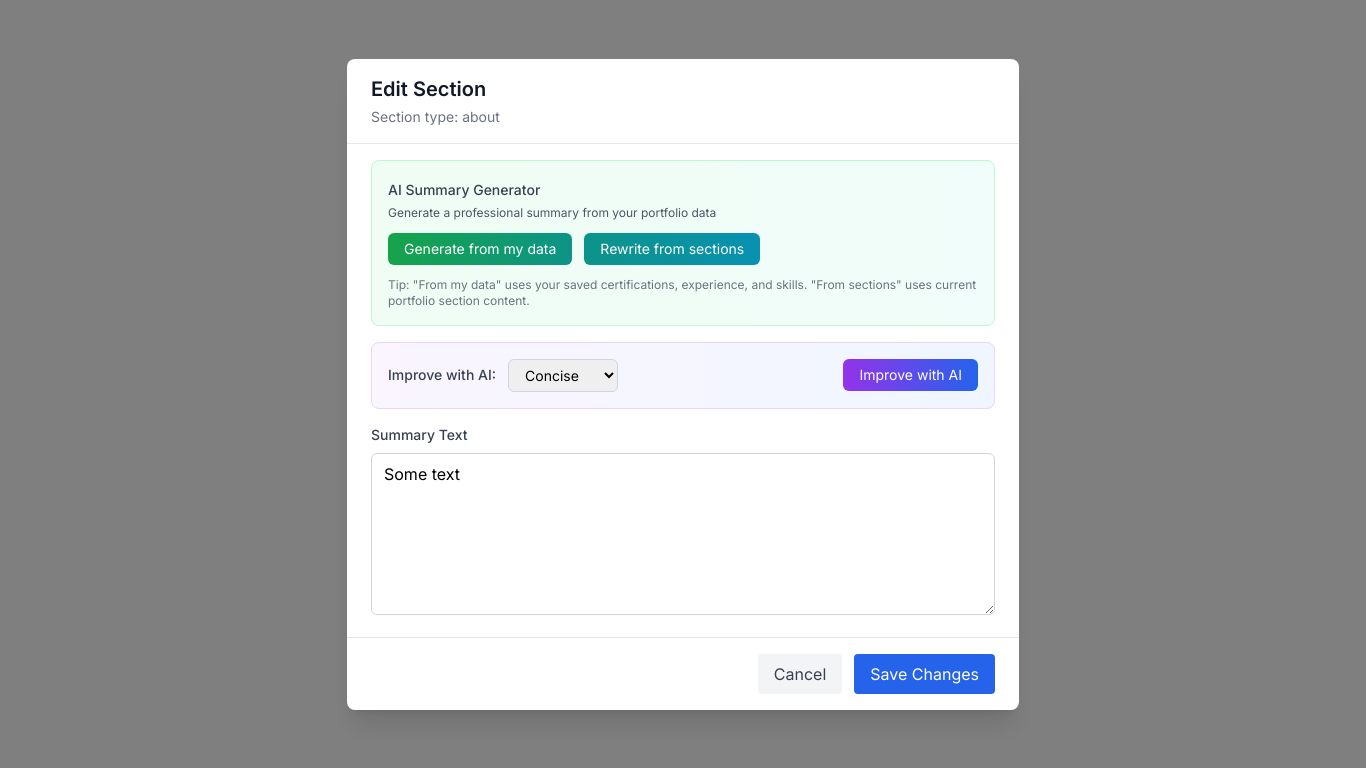
Test case: SectionEditor › error handling › should display error when AI improvement fails
What coordinates should you click on to do the following:
click the button "Improve with AI"
I would click on:
 (911, 375)
Its box is [844,359,978,391].
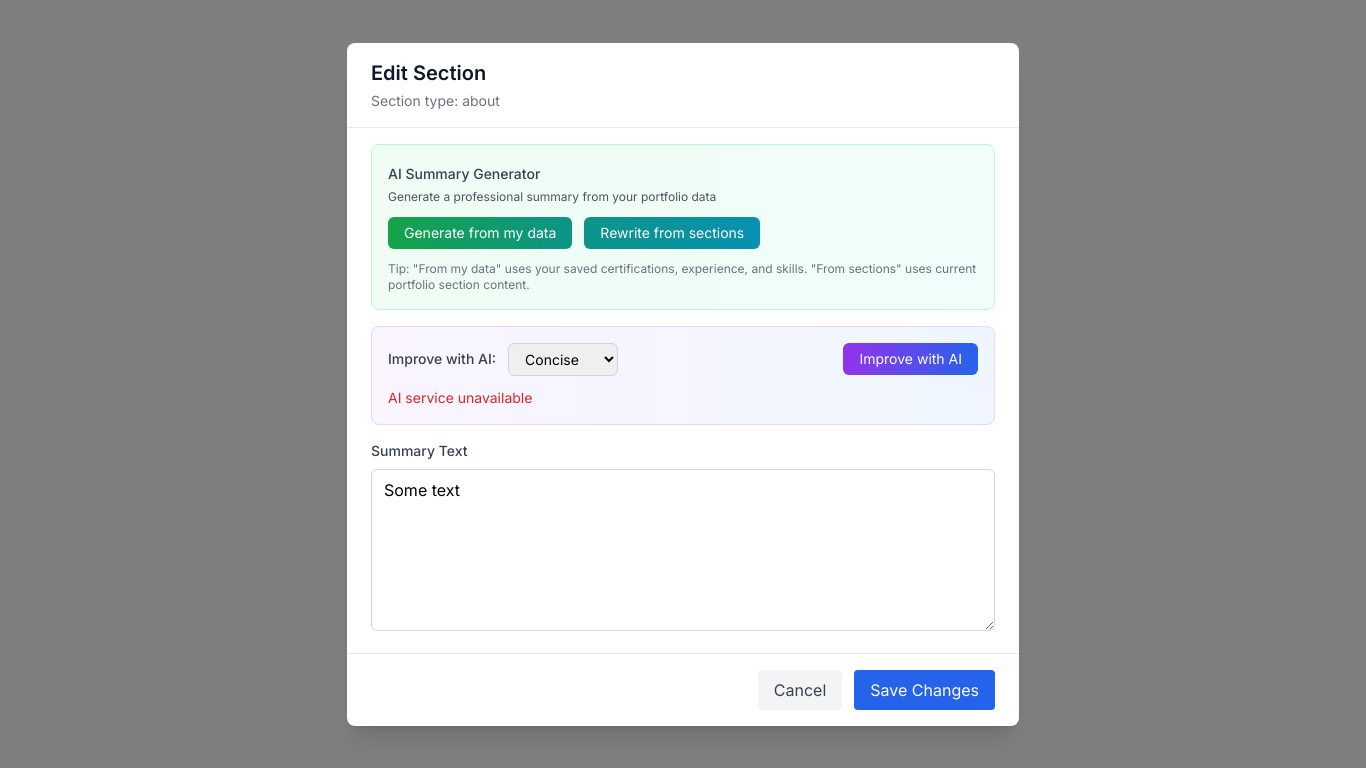
Check: the text "AI service unavailable" is shown, box [388,388,532,406]
